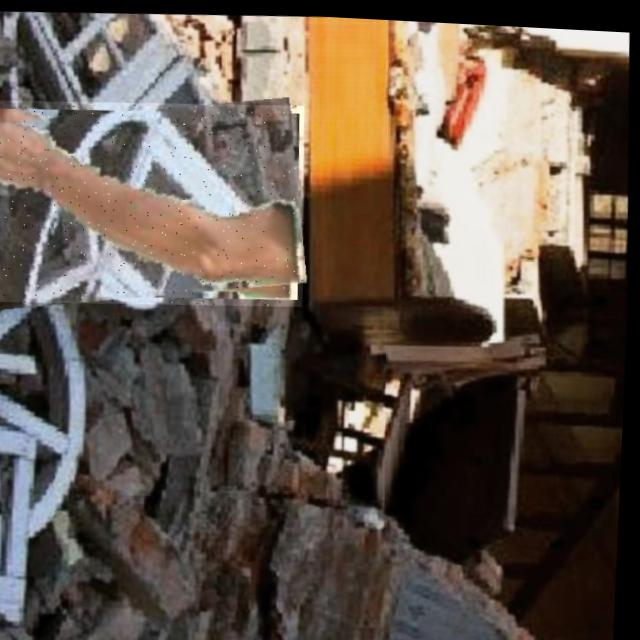Person in Rubble: (0, 89, 311, 314)
